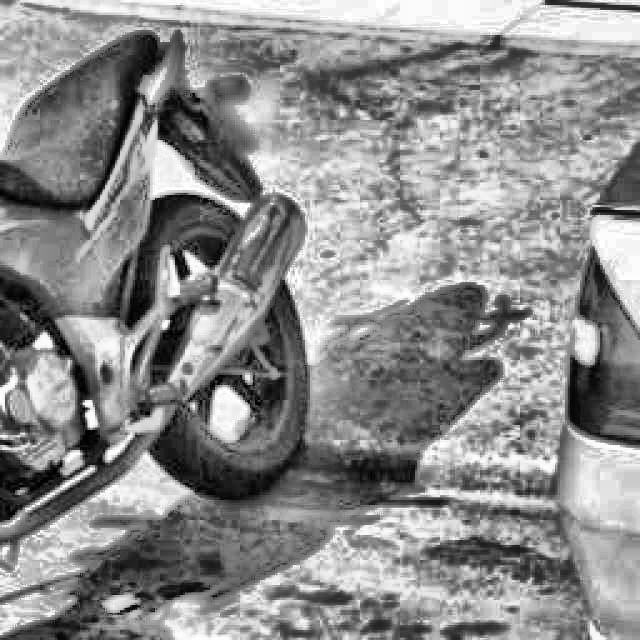motorcycle: (0, 33, 335, 594)
